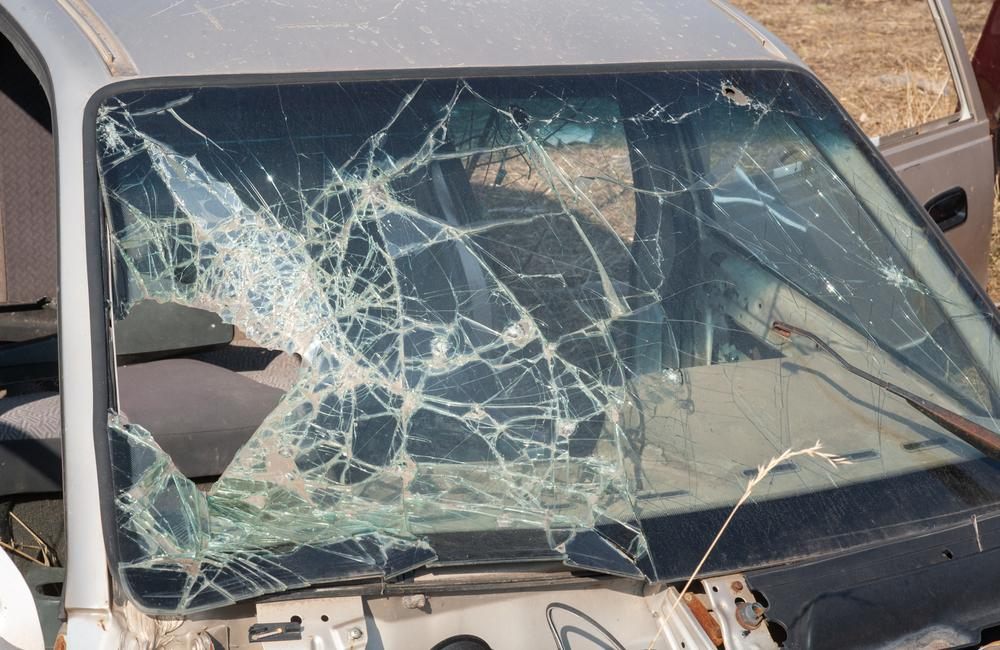glass shatter: (92, 69, 1000, 617)
